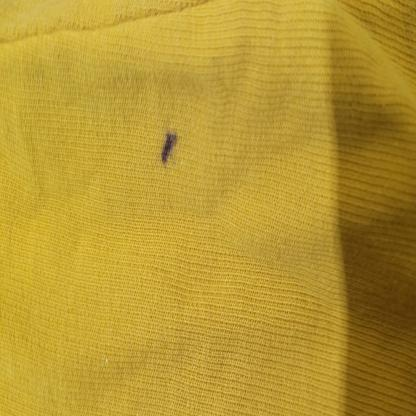spot: (158, 122, 182, 174)
